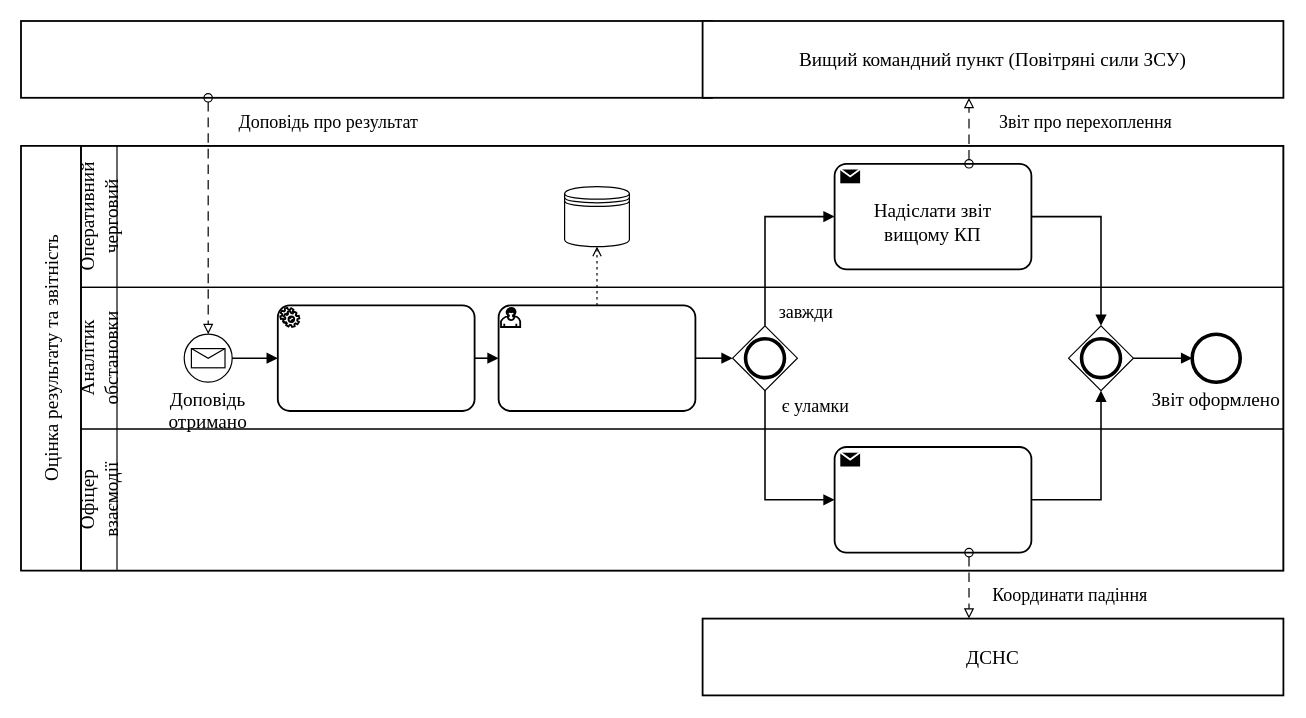
Some shapes in this 1306 by 718 pixel diagram are drawn without their labels. The centre of each missing label's shape, as x and y in pixels:
Архів місій: the point at 596,216
Виконання місії перехоплення: the point at 366,59
Встановити оцінку результату: the point at 596,357
Зібрати докази: відео, дані сенсорів: the point at 375,357
Повідомити ДСНС про місце падіння уламків: the point at 932,499
